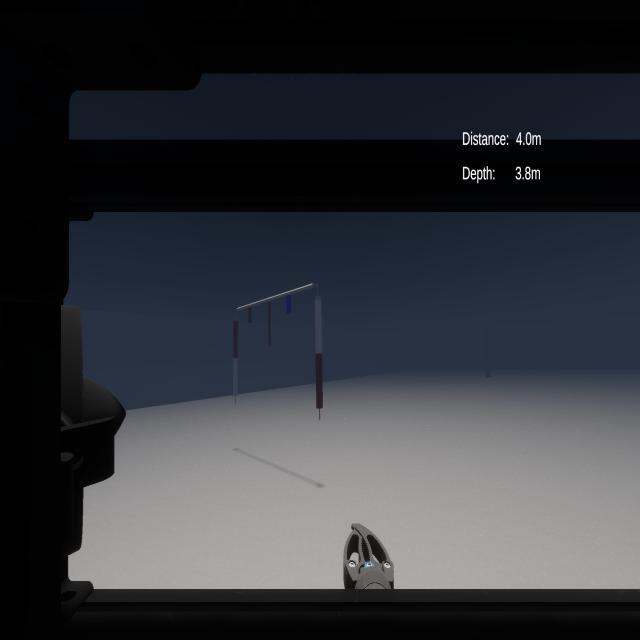Depth: (456, 162, 546, 187)
Distance: (452, 119, 547, 153)
Gate: (217, 267, 373, 439)
